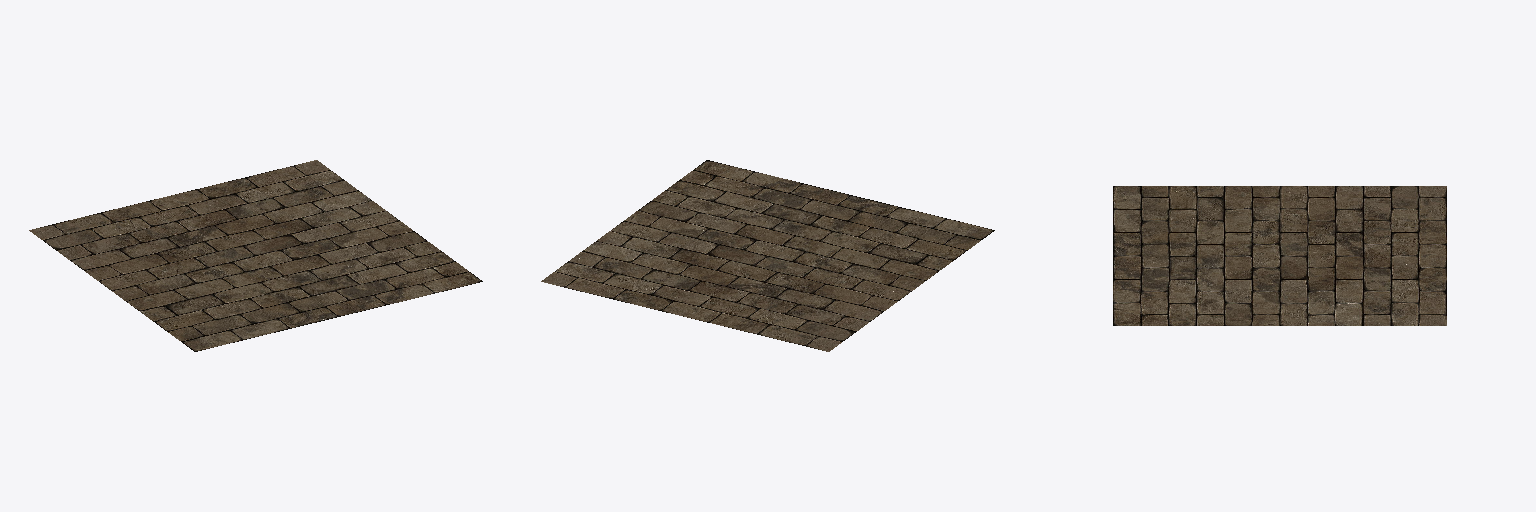
3 views of the same model, side by side, from view 1: azimuth 30°, elevation 25°; view 2: azimuth 150°, elevation 25°; view 3: azimuth 270°, elevation 25° (orthographic).
Parts seen in each view (by area): view 1: Plane; view 2: Plane; view 3: Plane.
Part boxes in pixels (x1,y1,x2,y2): Plane: (29,160,482,351); Plane: (541,160,994,351); Plane: (1113,186,1446,325).
Bounding box in the file's own units: 2 × 0 × 2.
Materials: 1 (1 with a texture image).